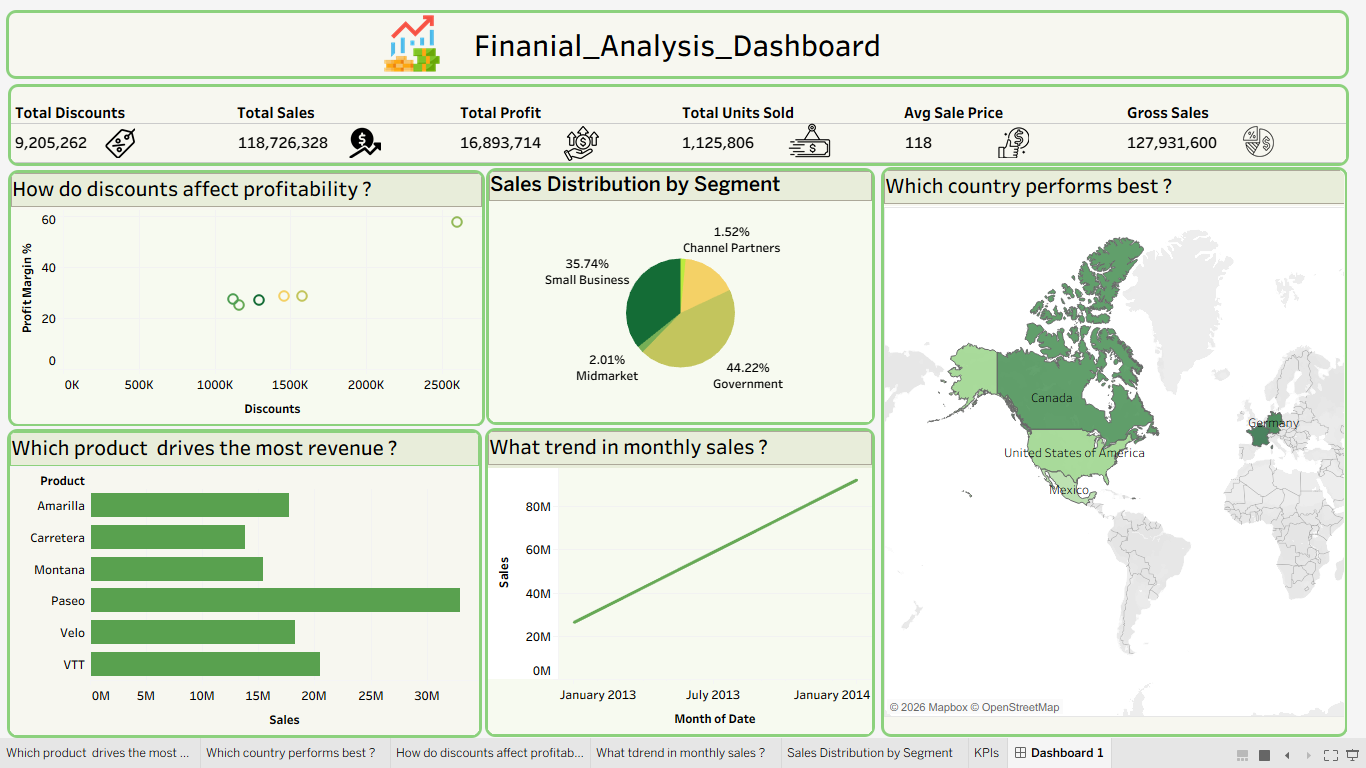

What the dashboard file says about the page in this screenshot:
{"tool":"tableau","page":{"name":"Dashboard 1","canvas":[1000,1000],"units":"permille","ordinal":0},"visuals":[{"type":"text","box":[4.5,13.5,982.8,92.9]},{"type":"image","param":"Image/stock.png","box":[278.9,16.9,67.4,84.5]},{"type":"worksheet","title":"KPIs","mark":"Automatic","box":[5.9,113.2,981.5,111.5]},{"type":"image","param":"Image/sold.png","box":[576.1,160.5,49.9,59.1]},{"type":"image","param":"Image/profit.png","box":[412,168.9,55,49]},{"type":"image","param":"Image/profit-margin.png","box":[909.5,168.9,38.9,43.9]},{"type":"image","param":"Image/growth.png","box":[255.5,170.6,59.2,43.9]},{"type":"image","param":"Image/best-price.png","box":[731,172.3,42.3,42.2]},{"type":"image","param":"Image/tag (1).png","box":[76.7,174,39.6,40.5]},{"type":"worksheet","title":"Which country performs best ?","mark":"Automatic","box":[644.6,226.3,341.8,772]},{"type":"worksheet","title":"Sales Distribution by Segment","mark":"Pie","box":[356,228,285.1,348]},{"type":"worksheet","title":"How do discounts affect profitability ?","mark":"Automatic","rows":["Calculation_0423623052218369"],"cols":["Discounts"],"box":[5.9,229.7,349.4,348]},{"type":"worksheet","title":"What tdrend in monthly sales ?","mark":"Automatic","rows":["Sales"],"cols":["Date"],"box":[355.2,579.4,285.8,418.9]},{"type":"worksheet","title":"Which product  drives the most revenue ?","mark":"Automatic","rows":["Product"],"cols":["Sales"],"box":[5.2,581.1,347.8,418.9]}]}

Visuals, with their boxes on the dashboard's canvas, which has no fixed pixel size, in thousandths of its width and height (x1, y1, x2, y2). These are canvas units, not pixel positions in the 1366x768 screenshot, which may show the page scaled, cropped or inside an application window:
text: x1=4 y1=14 x2=987 y2=106
image: x1=279 y1=17 x2=346 y2=101
"KPIs" worksheet: x1=6 y1=113 x2=987 y2=225
image: x1=576 y1=160 x2=626 y2=220
image: x1=412 y1=169 x2=467 y2=218
image: x1=910 y1=169 x2=948 y2=213
image: x1=256 y1=171 x2=315 y2=214
image: x1=731 y1=172 x2=773 y2=214
image: x1=77 y1=174 x2=116 y2=214
"Which country performs best ?" worksheet: x1=645 y1=226 x2=986 y2=998
"Sales Distribution by Segment" worksheet (Pie marks): x1=356 y1=228 x2=641 y2=576
"How do discounts affect profitability ?" worksheet: x1=6 y1=230 x2=355 y2=578
"What tdrend in monthly sales ?" worksheet: x1=355 y1=579 x2=641 y2=998
"Which product  drives the most revenue ?" worksheet: x1=5 y1=581 x2=353 y2=1000
